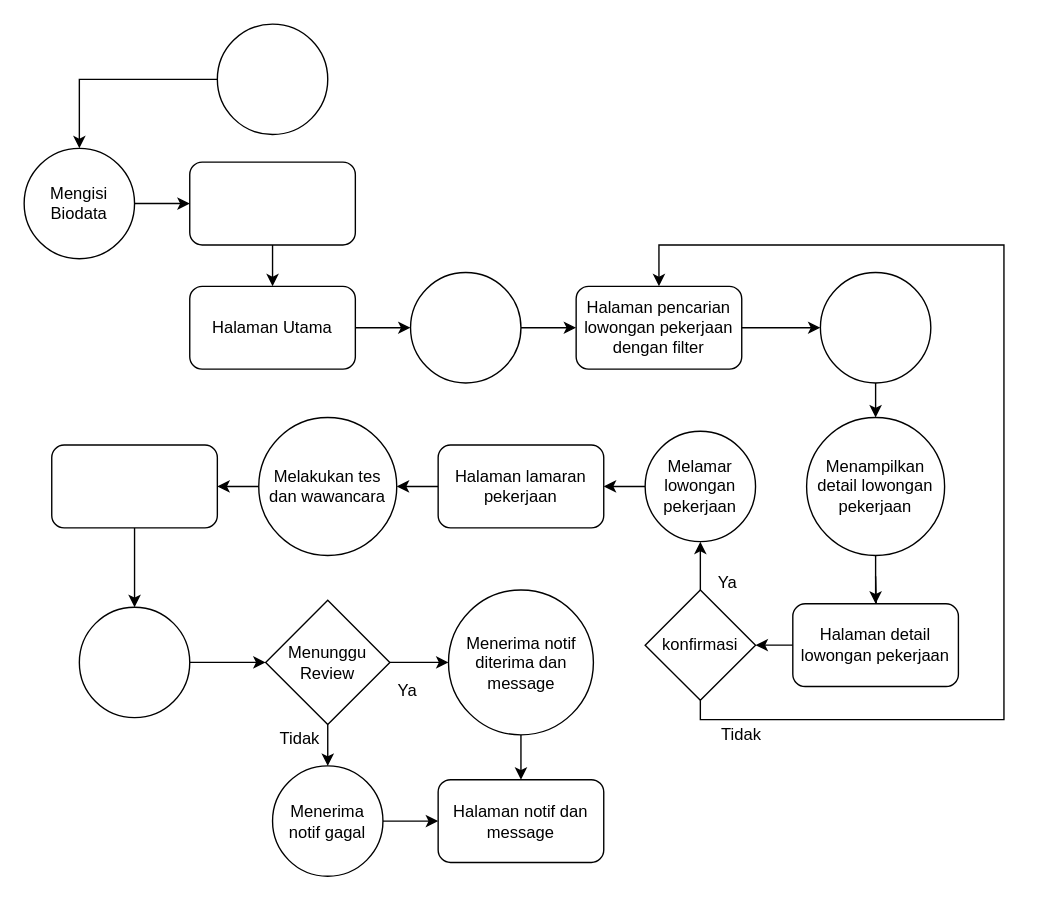
The diagram is 1039 pixels wide and 901 high, and some of its shapes have lost their labels. The shapes that lost their labels are listed below. From the top down, each one's box as (x1, y1, x2, y2) in pixels, then its label:
(216, 23, 328, 135): Membuka Aplikasi
(188, 161, 355, 245): Halaman Biodata
(409, 271, 521, 383): Mencari lowongan pekerjaan
(819, 271, 931, 383): Memilih lowongan pekerjaan
(50, 444, 217, 528): Halaman tes dan wawancara
(78, 606, 190, 718): selesai tes dan wawancara
